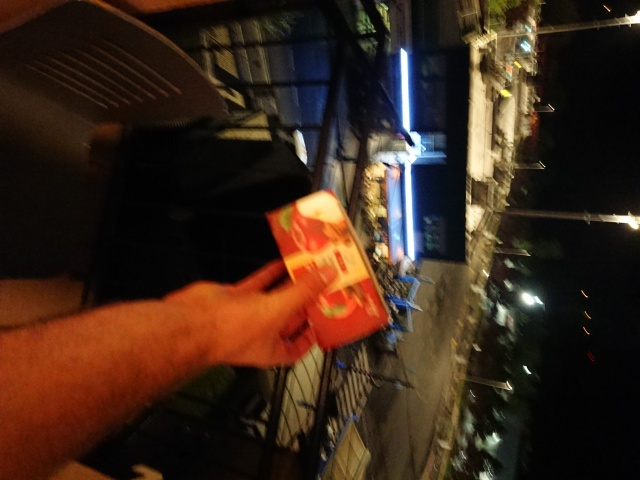Franck Apple Cinnamon Tea 60g: (261, 185, 396, 357)
